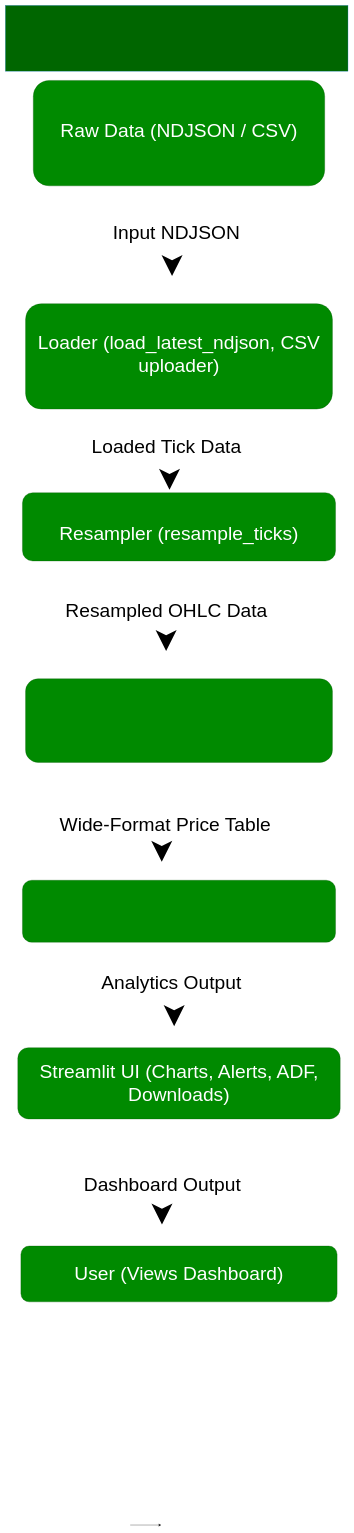
The diagram is 354 pixels wide and 1533 high, and some of its shapes have lost their labels. The shapes that lost their labels are listed below. From the top down, each one's centre as x and y in pixels, then its label:
At point 176,38: "Quant Developer Assignment — Streamlit Architecture Diagram".
At point 178,720: "Wide Prices (prices_wide)".
At point 179,911: "Analytics (spread_and_zscore, rolling_corr, adf_test)".
